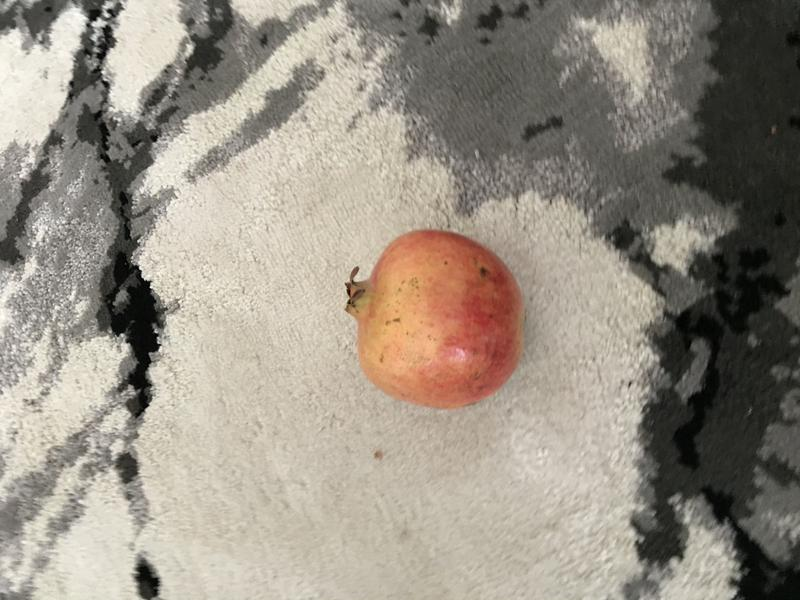pomegranate: (335, 224, 533, 416)
